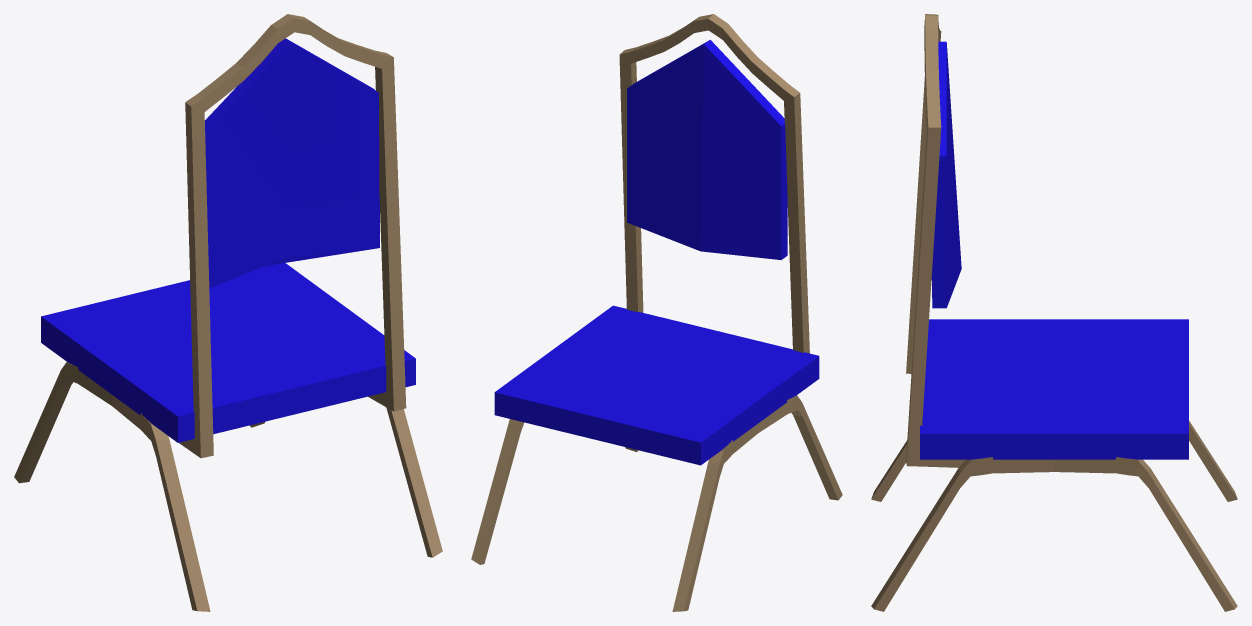
Rendered from BlueChair.fbx.
3 renders of one model, left to right at view 1: azimuth 30°, elevation 25°; view 2: azimuth 150°, elevation 25°; view 3: azimuth 270°, elevation 25°, orthographic. The views are drawn at different scales.
Parts seen in each view (by area): view 1: Cube.001; view 2: Cube.001; view 3: Cube.001.
Boxes of the visible parts, bbox=[...] form: Cube.001: bbox=[14, 14, 442, 611]; Cube.001: bbox=[471, 14, 842, 611]; Cube.001: bbox=[871, 14, 1237, 611].
Size of the model in its own units: 192 by 411 by 253.
